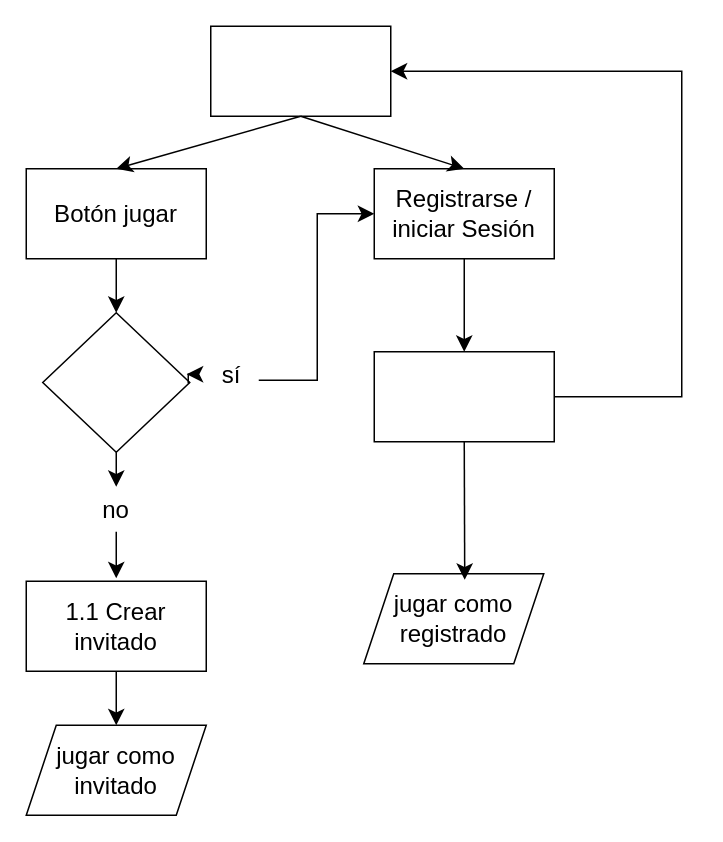
This 723x842 diagram has some shape labels left out. Here are the shapes that lost their labels. From the top down, the centre of each, then its label:
At (300,70): "Página Principal".
At (115,381): "registrarse?".
At (463,396): "Página Usuario".
